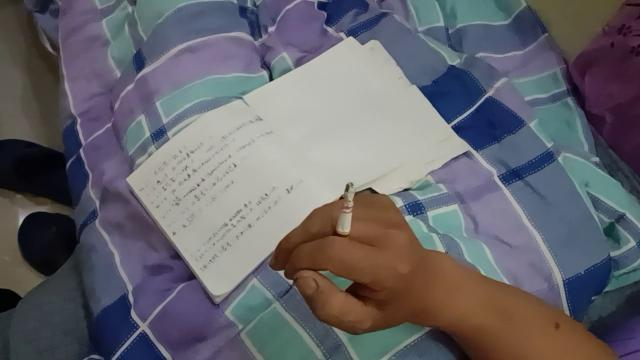Smoking: (332, 181, 358, 251)
